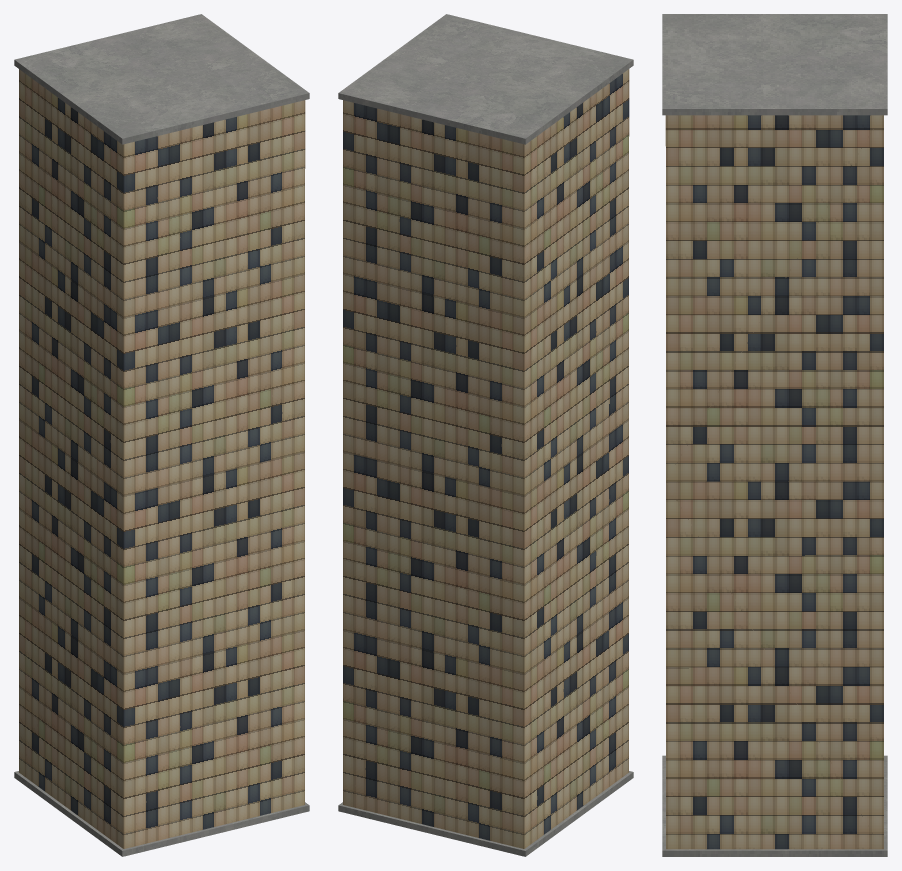
File: building_07.1.glb
3 renders of one model, left to right at view 1: azimuth 30°, elevation 25°; view 2: azimuth 150°, elevation 25°; view 3: azimuth 270°, elevation 25°, orthographic. The views are drawn at different scales.
Visible parts, largest first — view 1: building_07_12; view 2: building_07_12; view 3: building_07_12.
Boxes of the visible parts, x1,y1,x2,y2 form: building_07_12: (14,14,309,856); building_07_12: (338,14,633,856); building_07_12: (662,14,887,856).
Size of the model in its own units: 33 by 121 by 33.
Materials: 1 (1 with a texture image).
